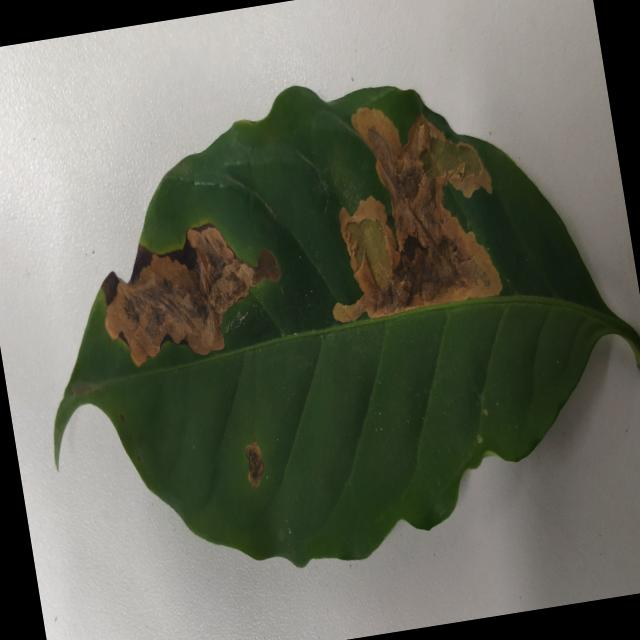KaratDaunKopi: (333, 107, 502, 322), (105, 224, 280, 366), (245, 440, 265, 487)
